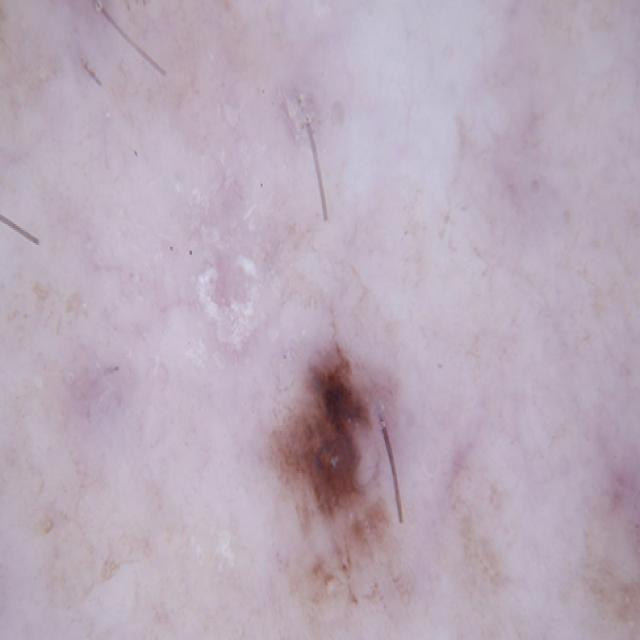Keratosis: (252, 220, 435, 605)
